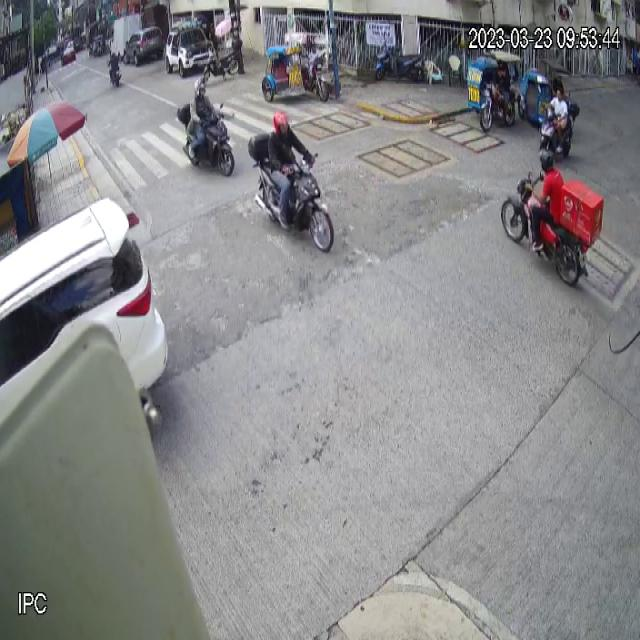Car: (0, 195, 169, 424)
Motorcycle: (500, 169, 606, 287), (248, 131, 337, 252), (176, 102, 235, 177), (537, 99, 581, 164)
Tricycle: (261, 32, 330, 104), (466, 50, 522, 132)
